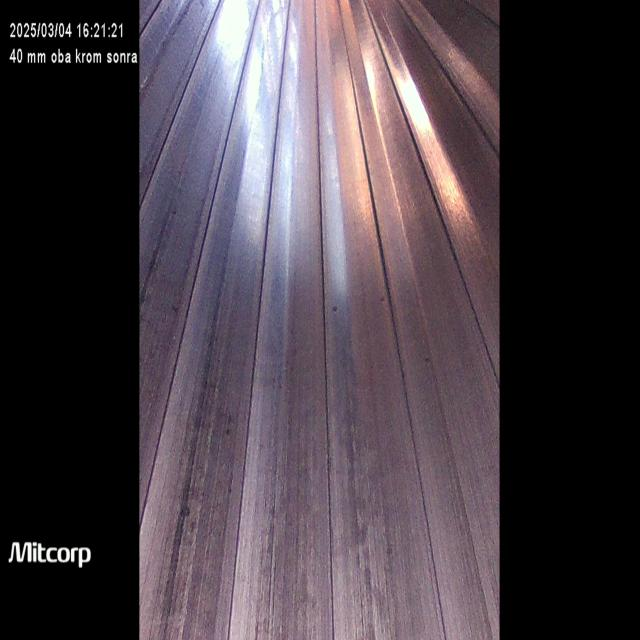hata_4.2: (204, 316, 222, 360), (170, 288, 186, 334), (374, 283, 394, 319), (176, 495, 196, 530), (221, 479, 239, 505), (423, 344, 436, 379), (330, 302, 345, 324), (225, 414, 238, 439), (169, 199, 182, 224)
